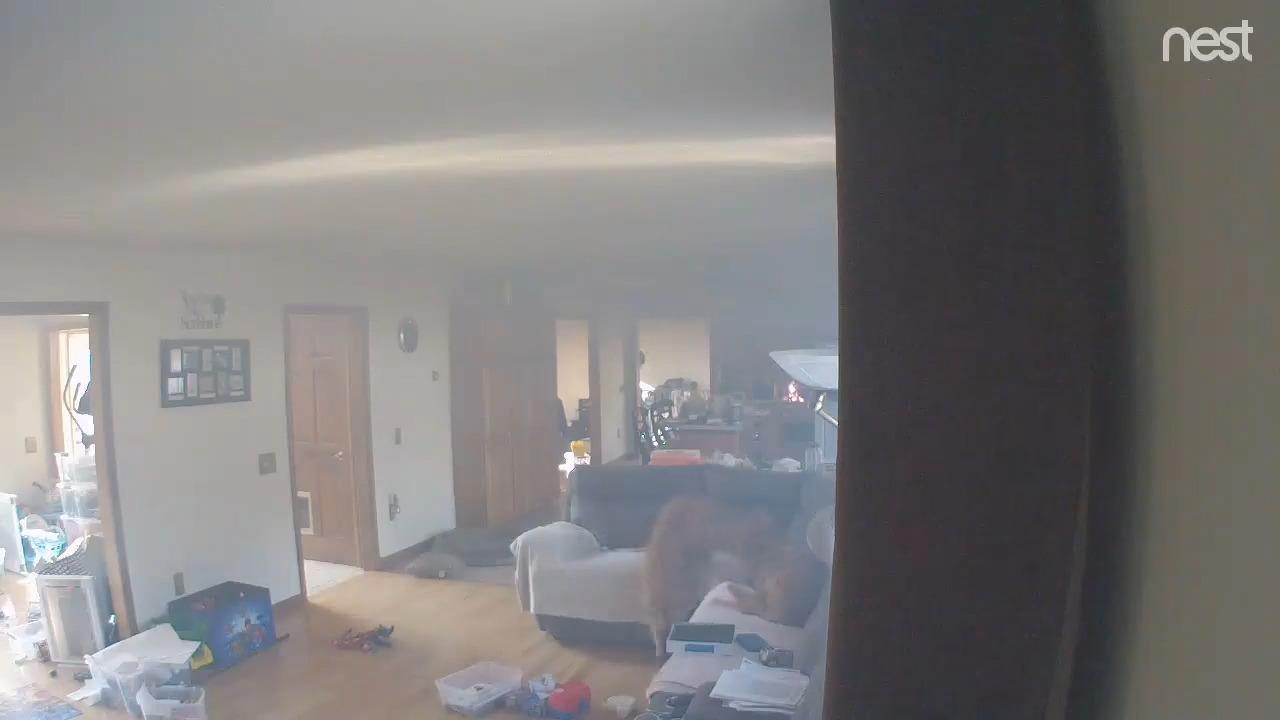fire: (783, 379, 804, 402)
